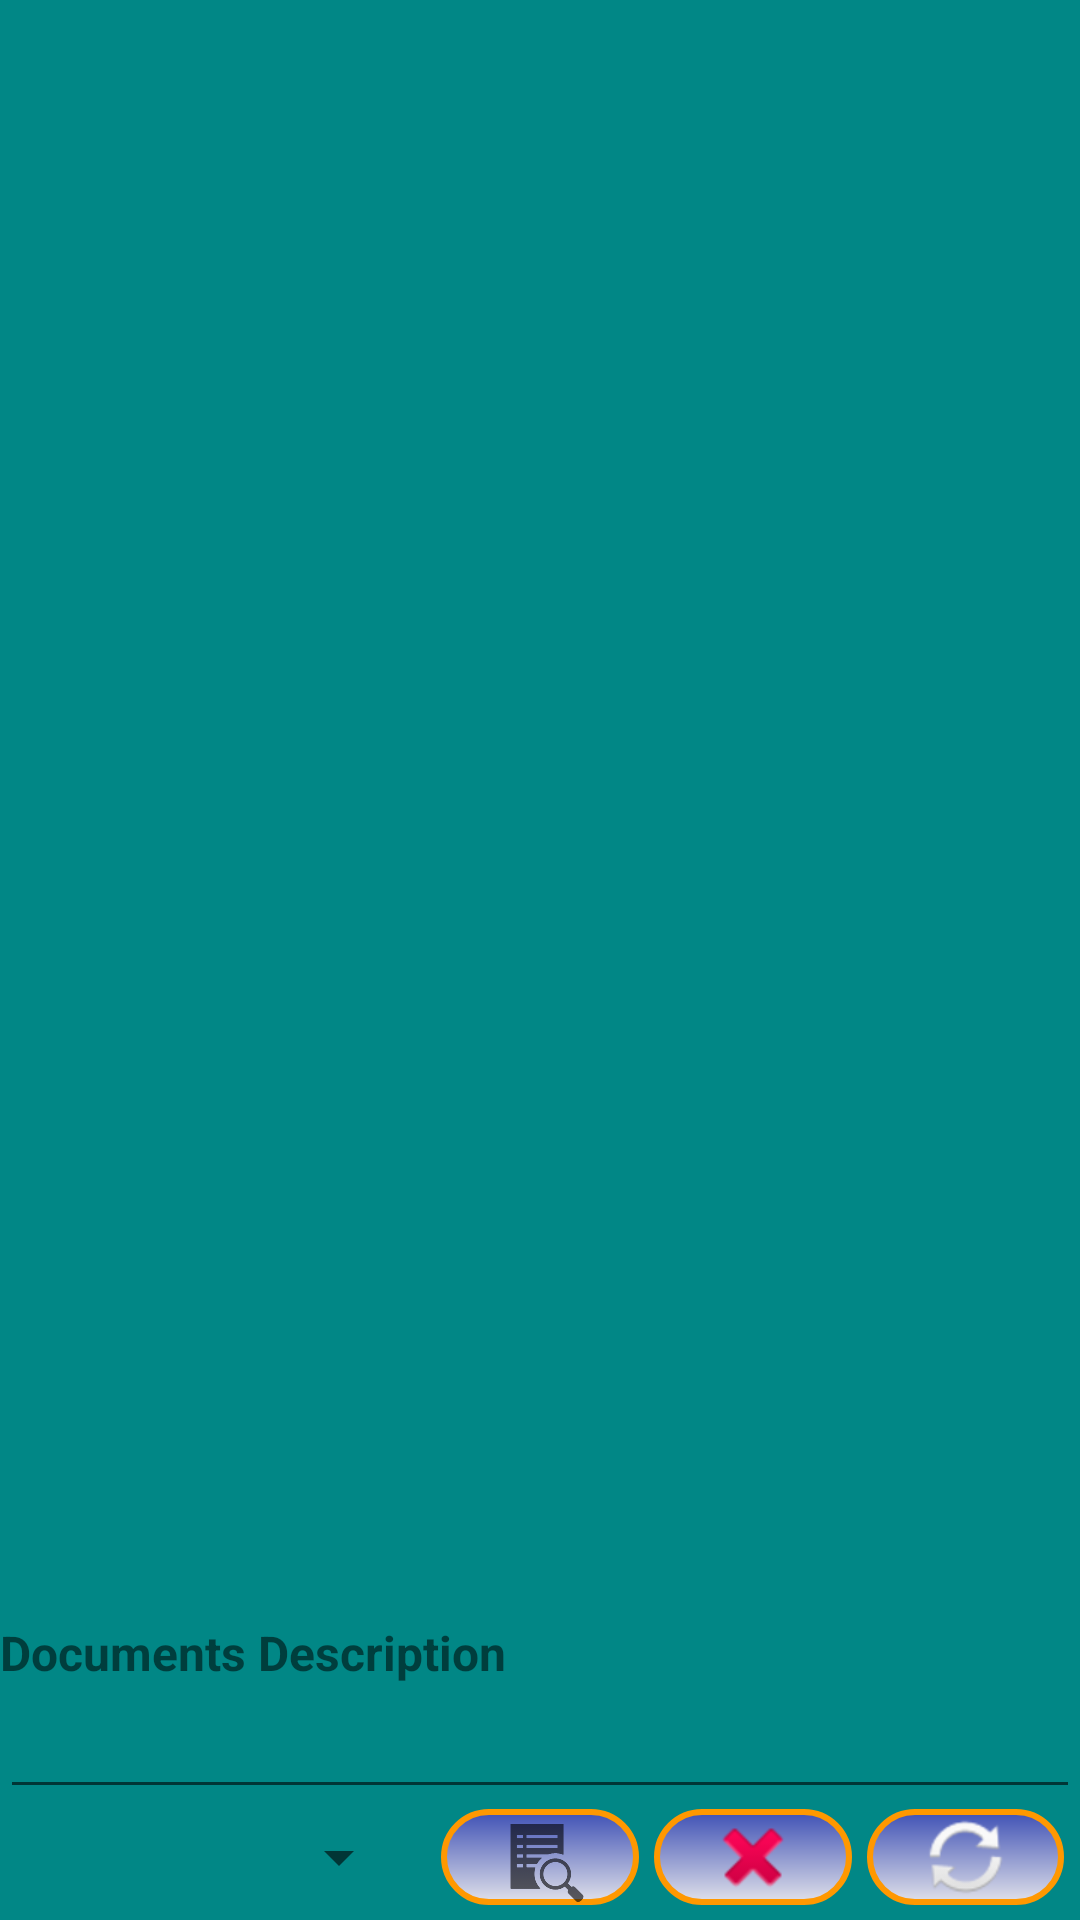

Locate icon controls on the screen. Image size 1080 × 1920, boxes as box=[x1, y1, x2, y2].
delete: box=[654, 1809, 852, 1905]
popup sync: box=[867, 1809, 1064, 1905]
